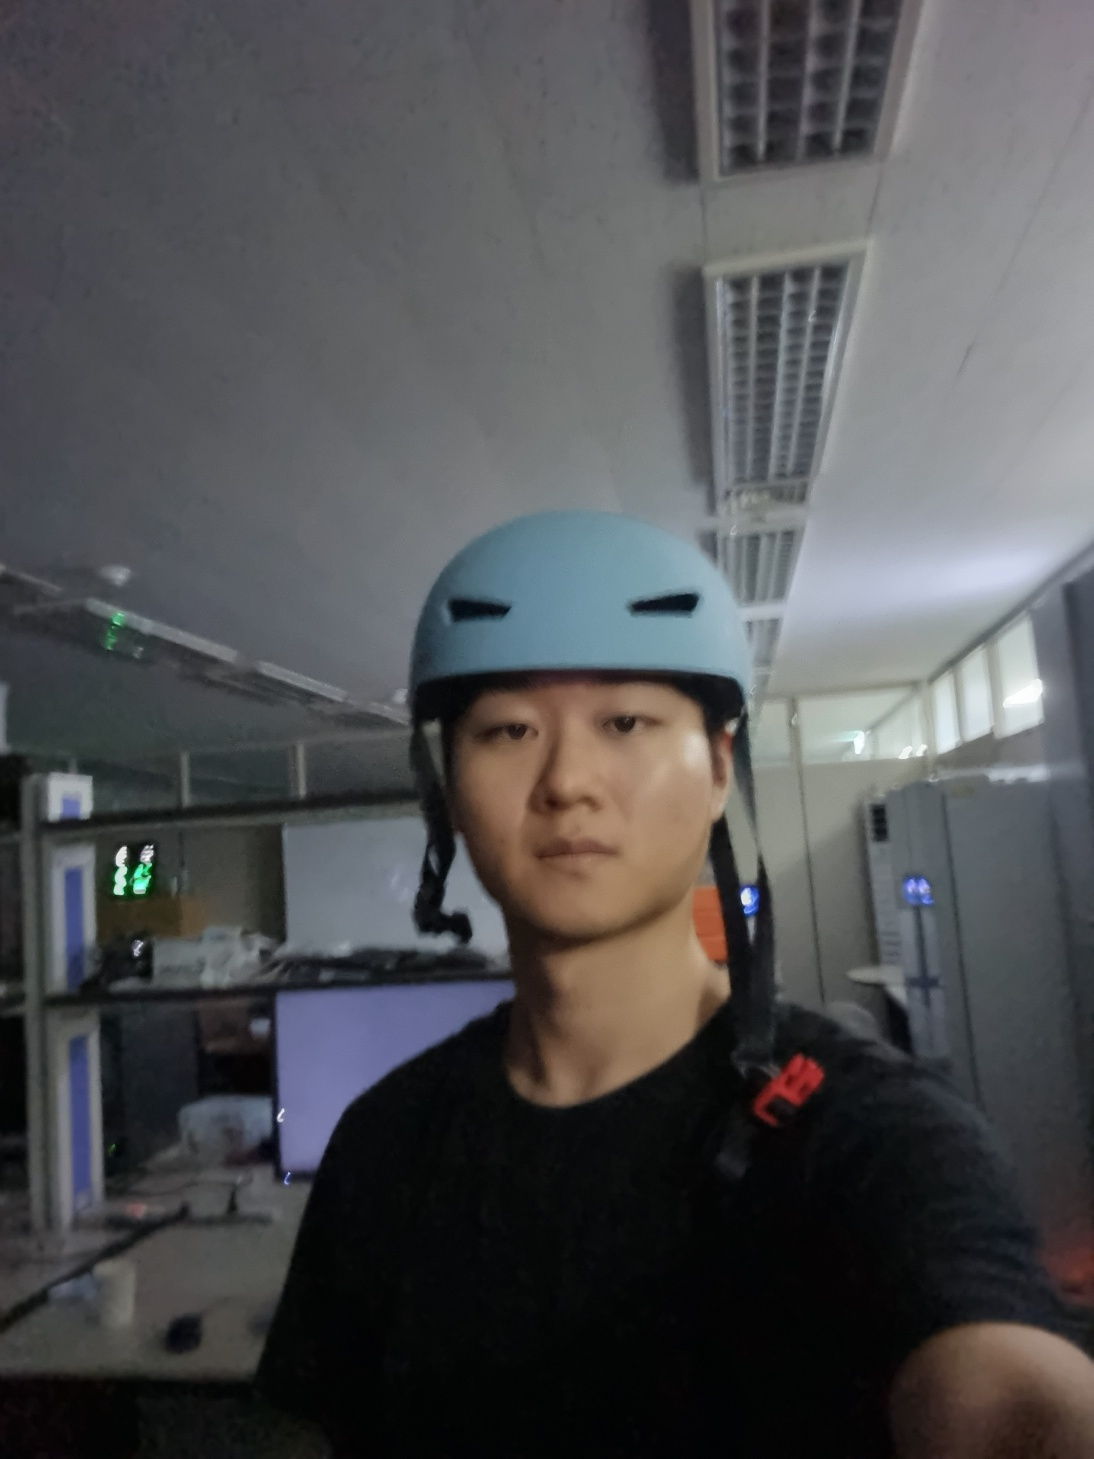Helmet: (371, 496, 814, 994)
